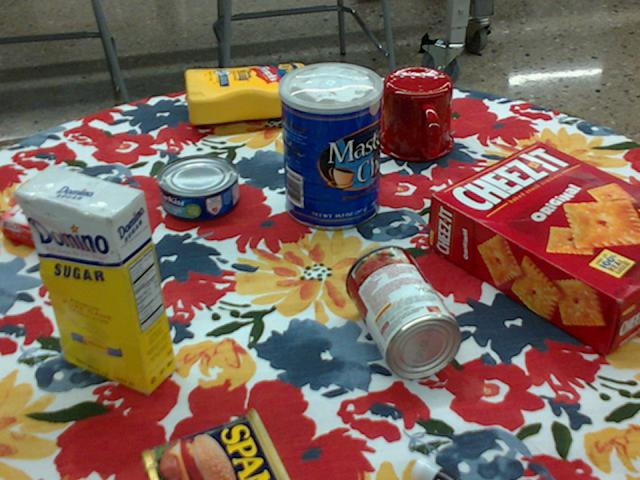cracker_box: (427, 141, 639, 357)
gelatin_box: (0, 179, 115, 258)
large_marker: (412, 456, 463, 479)
master_chef_can: (279, 62, 384, 231)
mug: (375, 68, 453, 162)
mustard_bottle: (183, 63, 339, 123)
potted_meat_can: (141, 408, 290, 479)
sugar_box: (14, 163, 176, 394)
tomato_soup_can: (345, 245, 463, 379)
tuna_fish_can: (155, 155, 238, 221)
